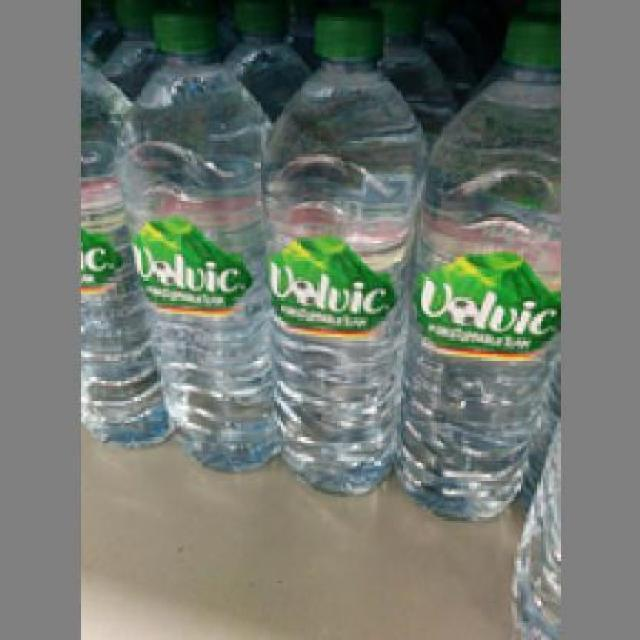Water: (392, 14, 554, 517), (260, 9, 423, 492), (111, 8, 272, 474)
